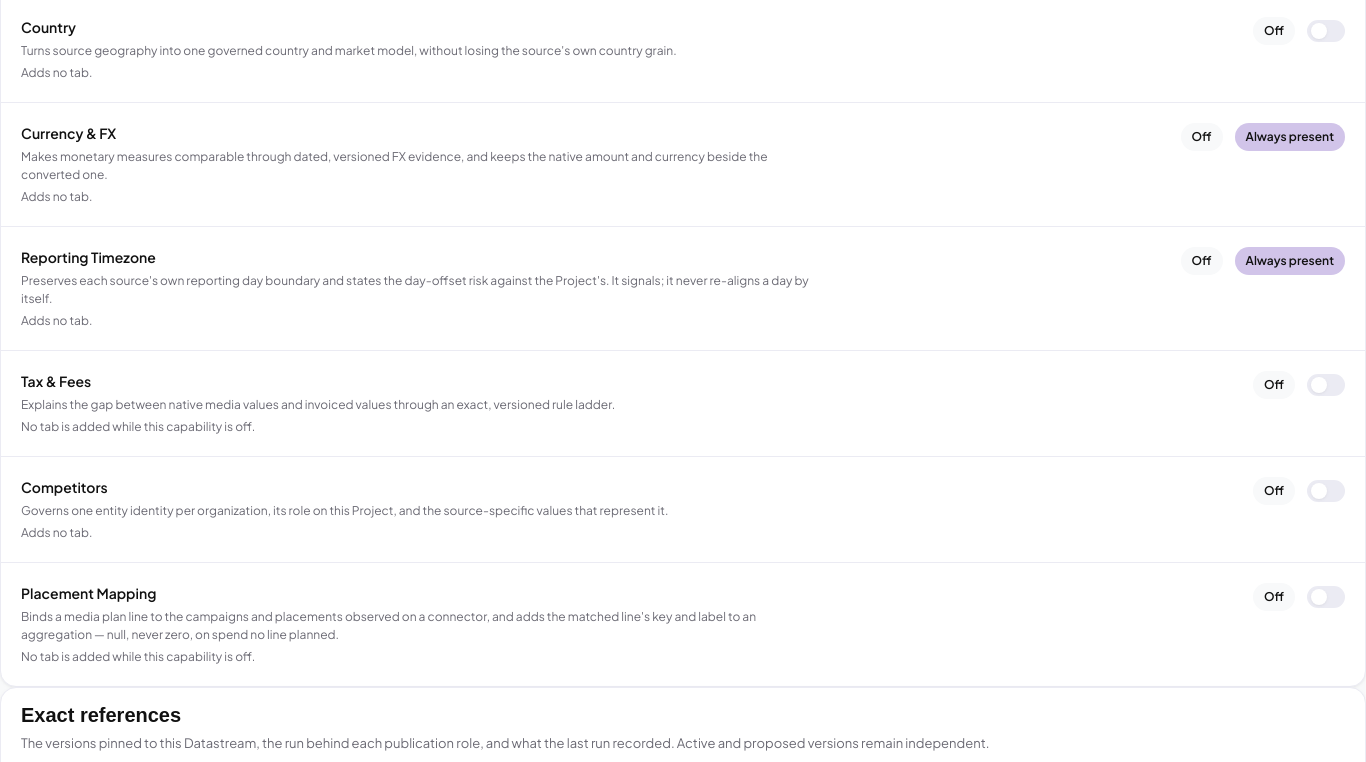
Test: the modules › prepares a Change Set, says so, and never turns the switch on
(page scrolled)
Click the switch with test id "module-switch-tax_fees".
click(1326, 385)  # box [1307,374,1345,396]
(page scrolled)
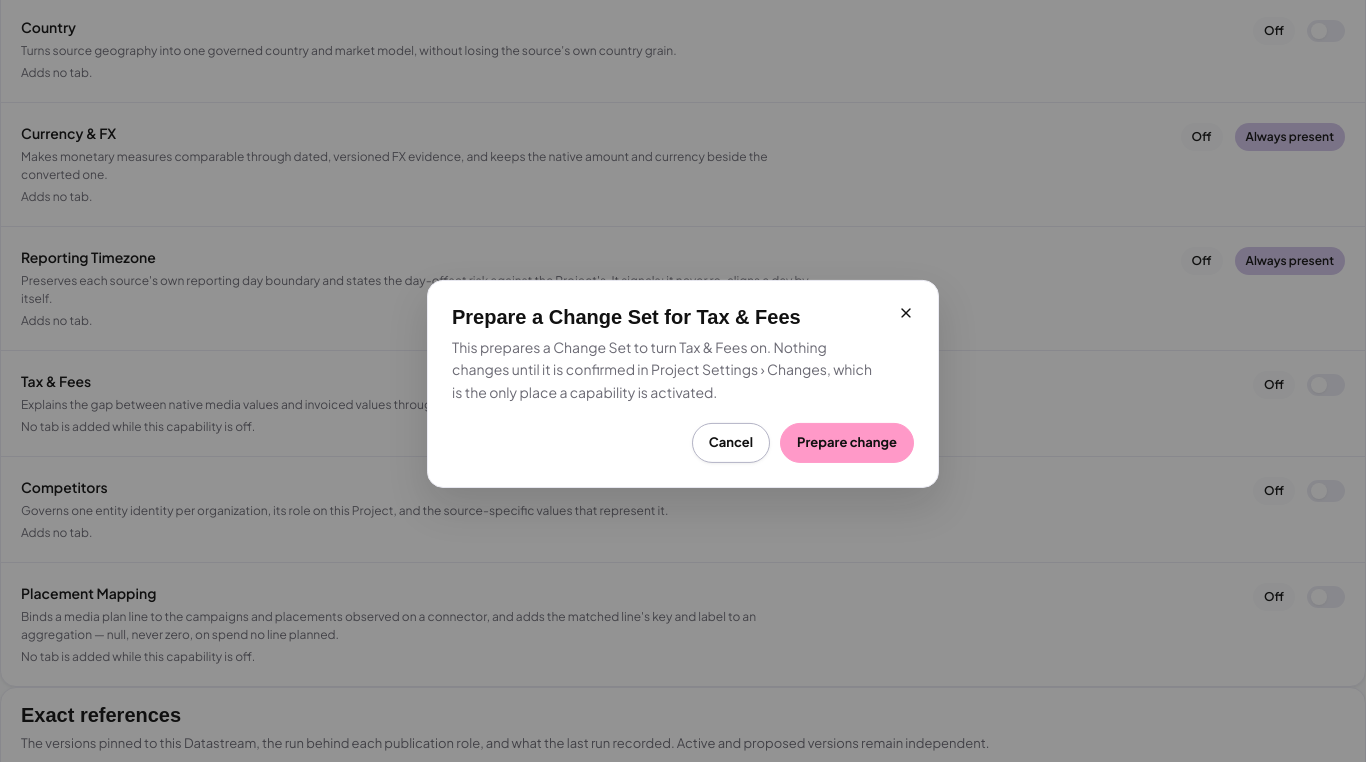
Click the button "Prepare change".
click(847, 443)  # box [780,423,914,463]
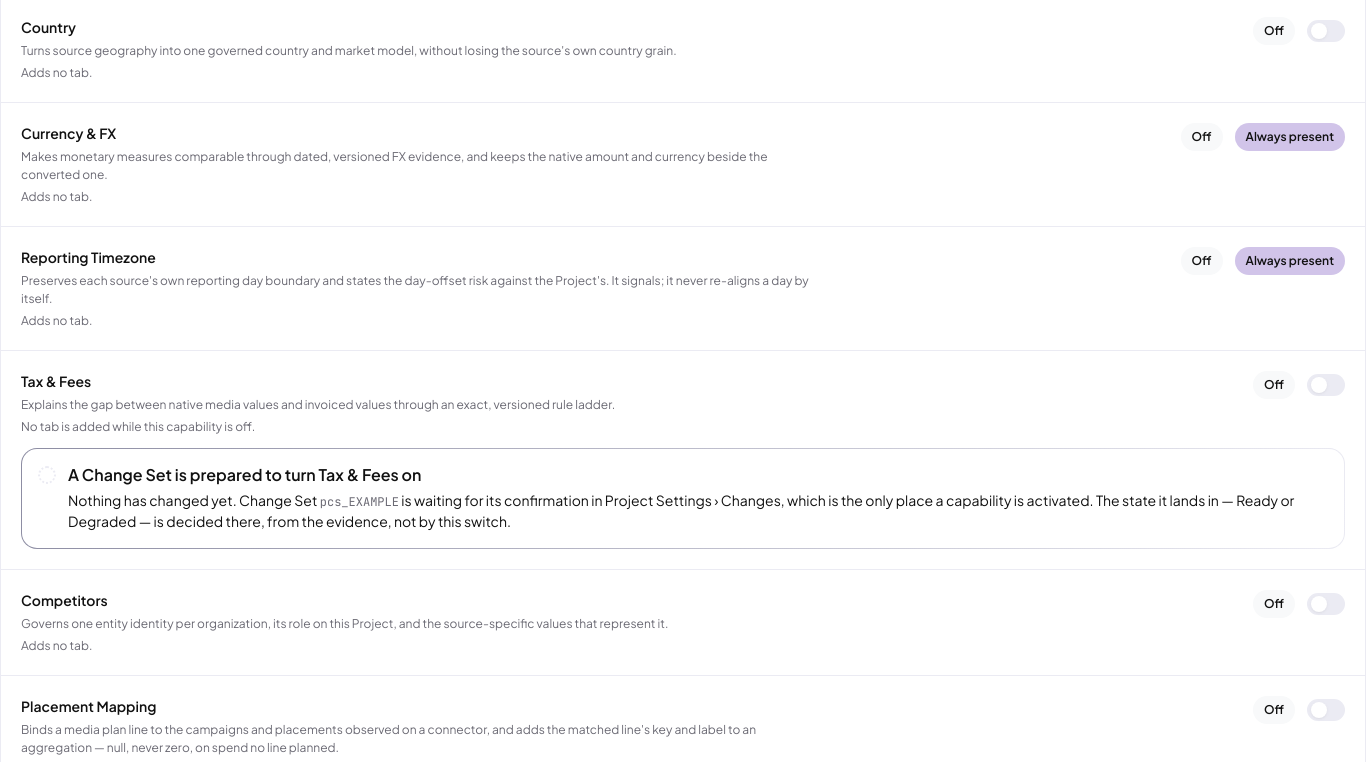
Result: the text "A Change Set is prepared to turn Tax & Fees on" is shown at [68,464,421,485]
